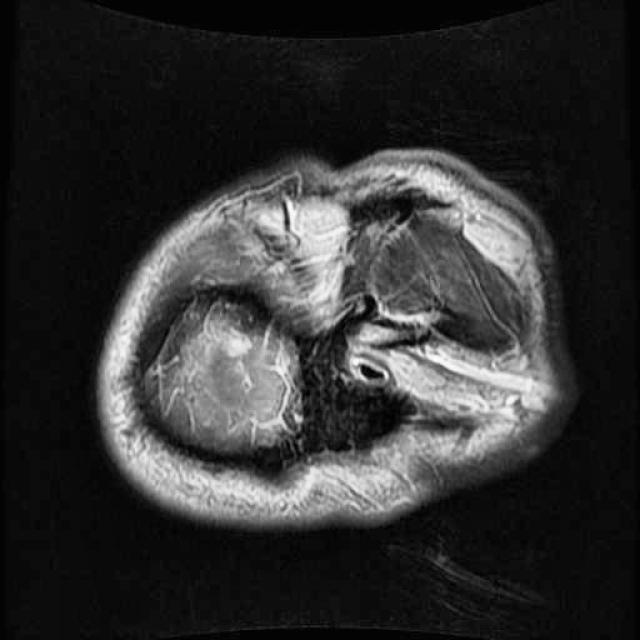Tumor: (213, 317, 259, 373)
